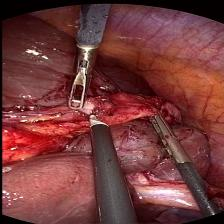Grasper: (142, 105, 193, 164), (54, 55, 97, 113)
Hook: (85, 110, 111, 127)
